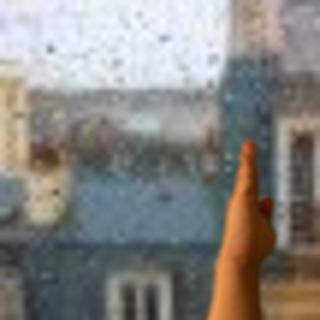RIGHT: (195, 126, 266, 254)
